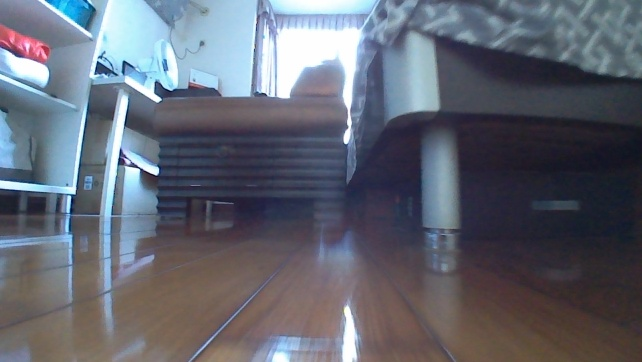bed1: (344, 0, 641, 274)
wire: (166, 14, 202, 60)
